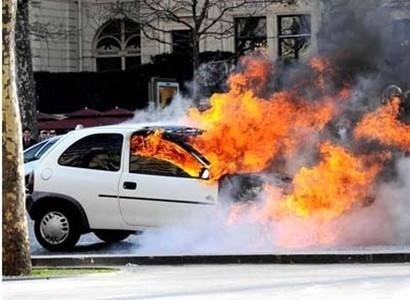fire: (169, 51, 400, 235), (129, 126, 192, 174)
